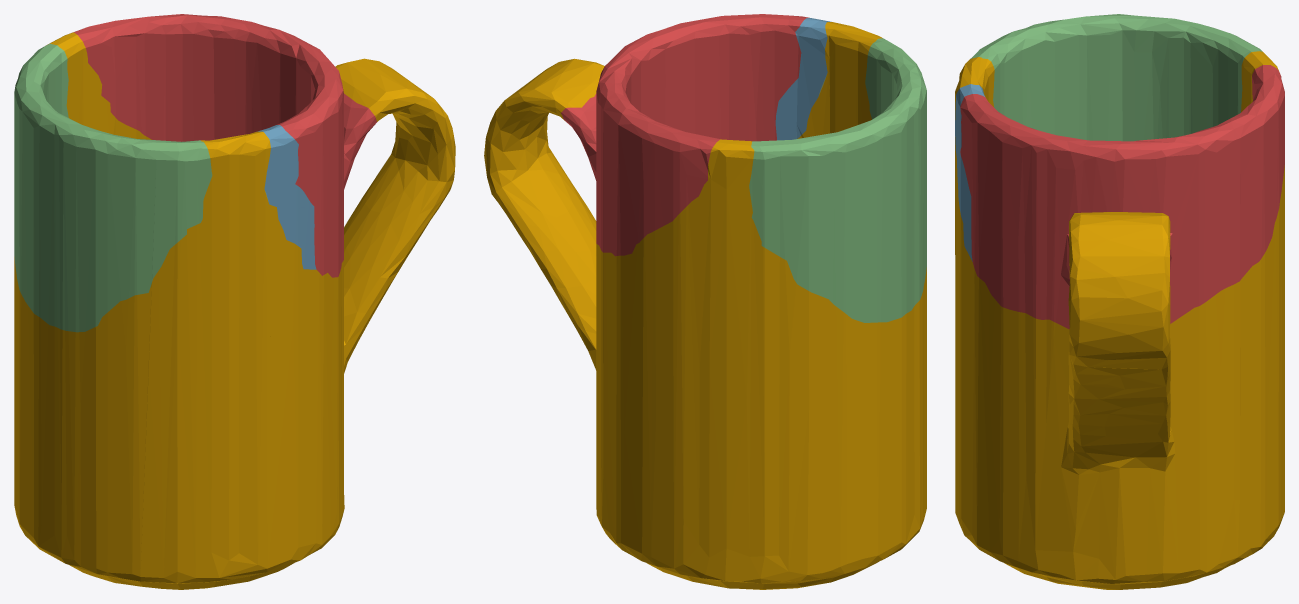
File: mode_6_6pcs.glb
3 renders of one model, left to right at view 1: azimuth 30°, elevation 25°; view 2: azimuth 150°, elevation 25°; view 3: azimuth 270°, elevation 25°, orthographic.
Parts seen in each view (by area): view 1: piece_0.obj, piece_3.obj, piece_1.obj, piece_2.obj; view 2: piece_0.obj, piece_1.obj, piece_3.obj, piece_2.obj; view 3: piece_0.obj, piece_1.obj, piece_3.obj, piece_2.obj.
Boxes of the visible parts, x1,y1,x2,y2 form: piece_0.obj: (14,32,455,589); piece_3.obj: (14,43,212,332); piece_1.obj: (73,14,376,277); piece_2.obj: (258,125,316,269); piece_0.obj: (484,22,926,589); piece_1.obj: (561,14,808,256); piece_3.obj: (749,38,926,322); piece_2.obj: (775,17,831,140); piece_0.obj: (955,51,1284,589); piece_1.obj: (960,65,1284,328); piece_3.obj: (970,14,1262,141); piece_2.obj: (955,84,984,261).
Bounding box in the file's own units: 0.9165 × 1 × 0.6557.
